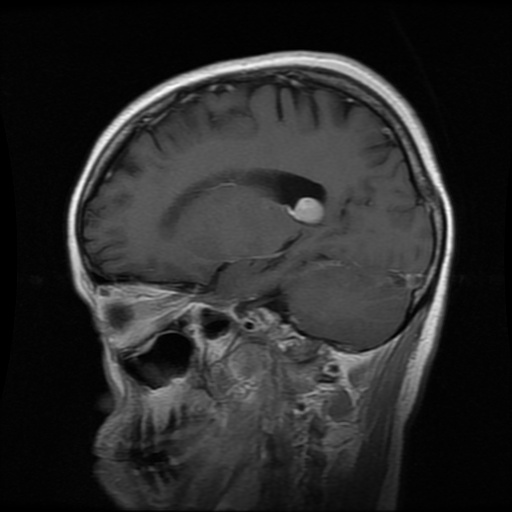meningioma: (291, 196, 323, 222)
